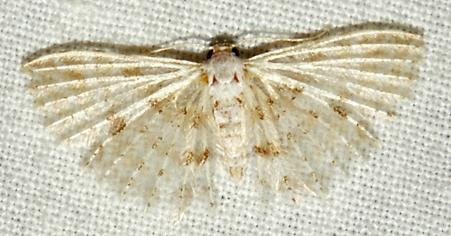Alucitidae: (20, 20, 432, 221)
moth: (22, 22, 434, 223)
